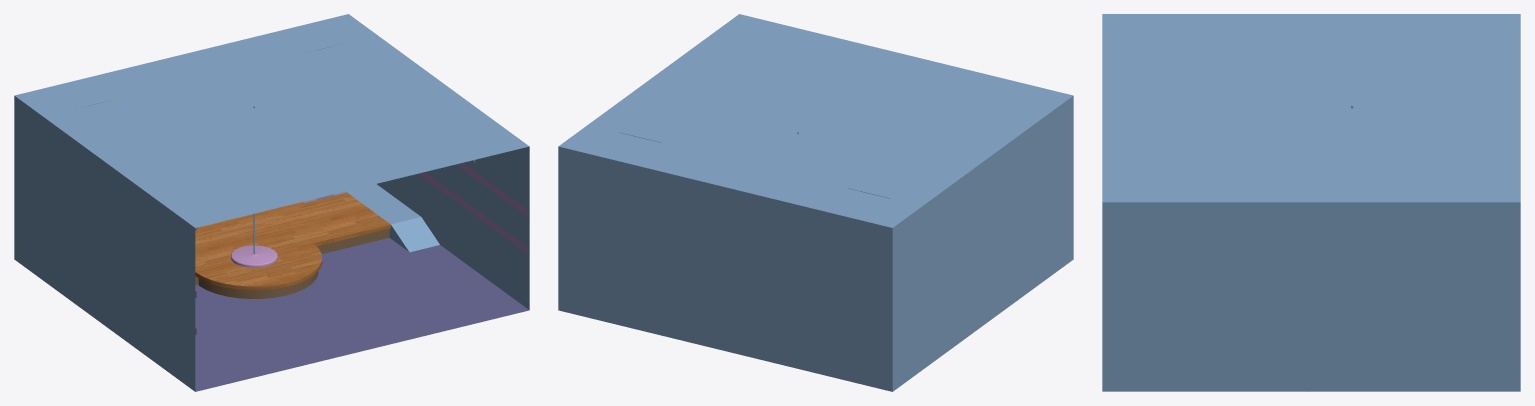
The model's file is stage_01.fbx.
3 renders of one model, left to right at view 1: azimuth 30°, elevation 25°; view 2: azimuth 150°, elevation 25°; view 3: azimuth 270°, elevation 25°, orthographic. The views are drawn at different scales.
Parts seen in each view (by area): view 1: stage_wall, stage_ground, stage_side, stage_polebase; view 2: stage_wall; view 3: stage_wall.
Part boxes in pixels (x1,y1,x2,y2): stage_wall: (14, 14, 529, 391); stage_ground: (195, 192, 390, 298); stage_side: (346, 184, 439, 252); stage_polebase: (231, 245, 277, 267); stage_wall: (558, 14, 1073, 391); stage_wall: (1102, 14, 1520, 391).
Size of the model in its own units: 9793 by 4657 by 9185.
